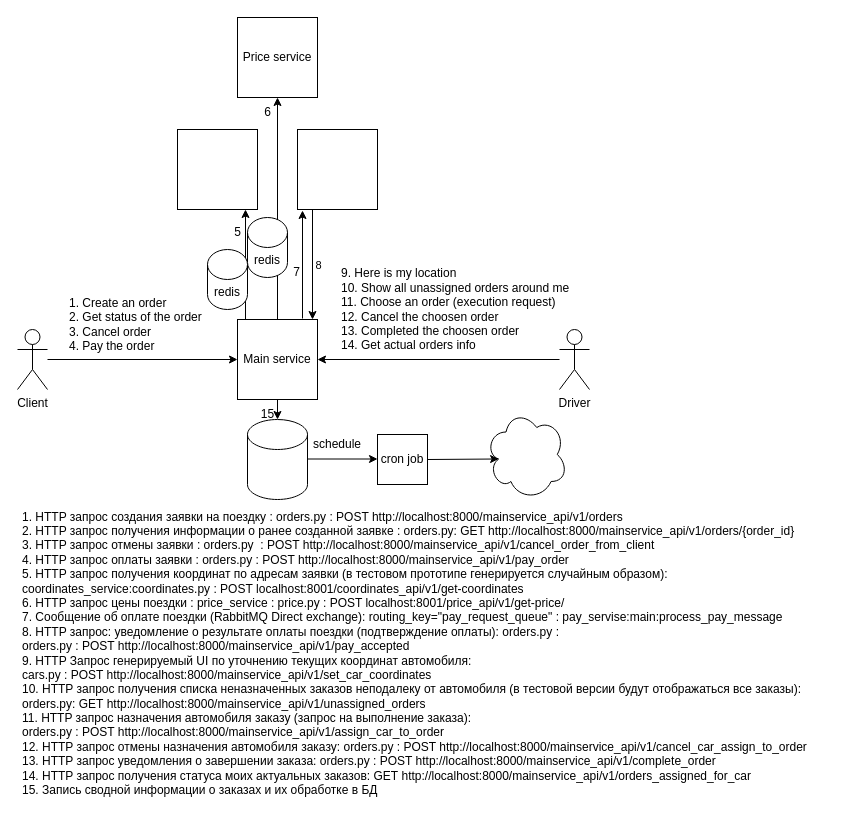
Some shapes in this 848 by 821 pixel diagram are drawn without their labels. The shapes that lost their labels are listed below. From the top down, each one's centre as x and y in pixels, then its label:
At (217,169): "Coordinate service".
At (337,169): "Pay service".
At (277,459): "DB Postgres".
At (526,454): "S3".
